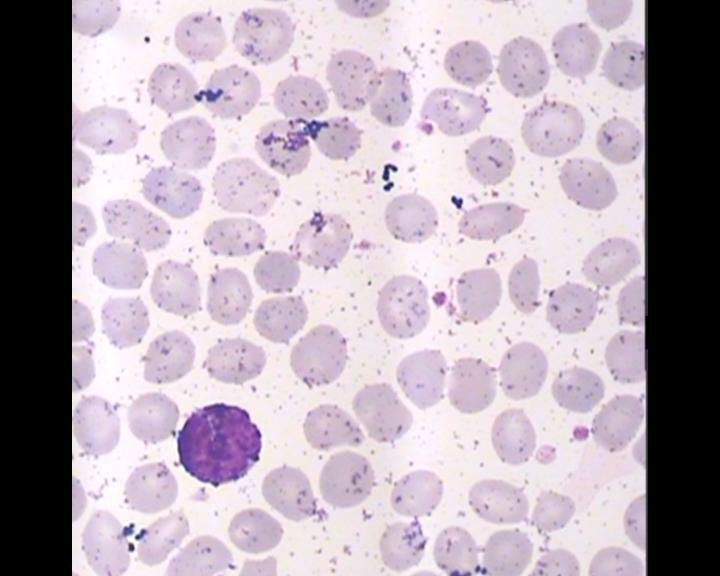baso: (170, 397, 264, 491)
